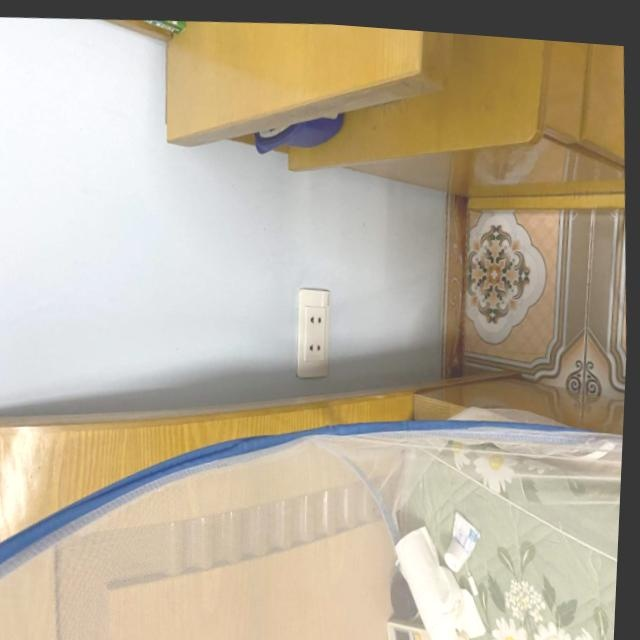outlet: (292, 285, 335, 380)
